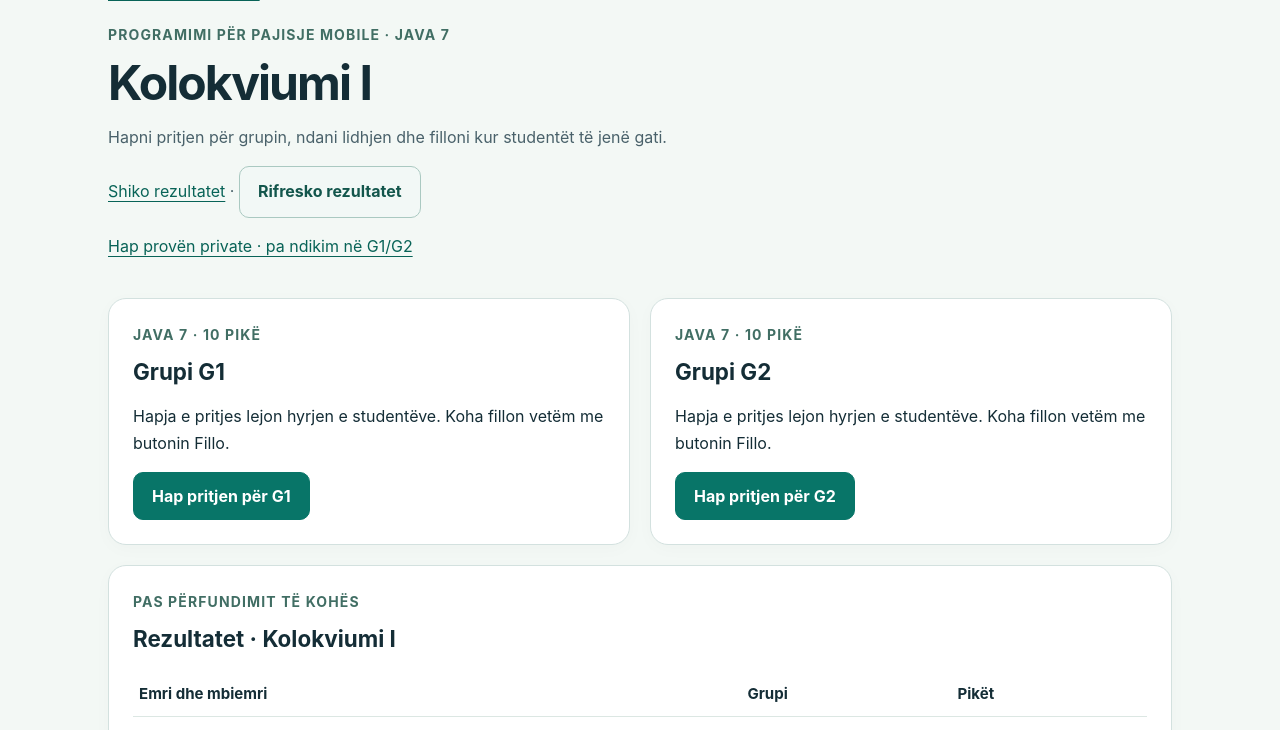
Scenario: keeps published points visible while refresh fails, then clears the error on recovery
Click the button "Rifresko rezultatet" at (330, 192), box [239,166,421,218]
(page scrolled)
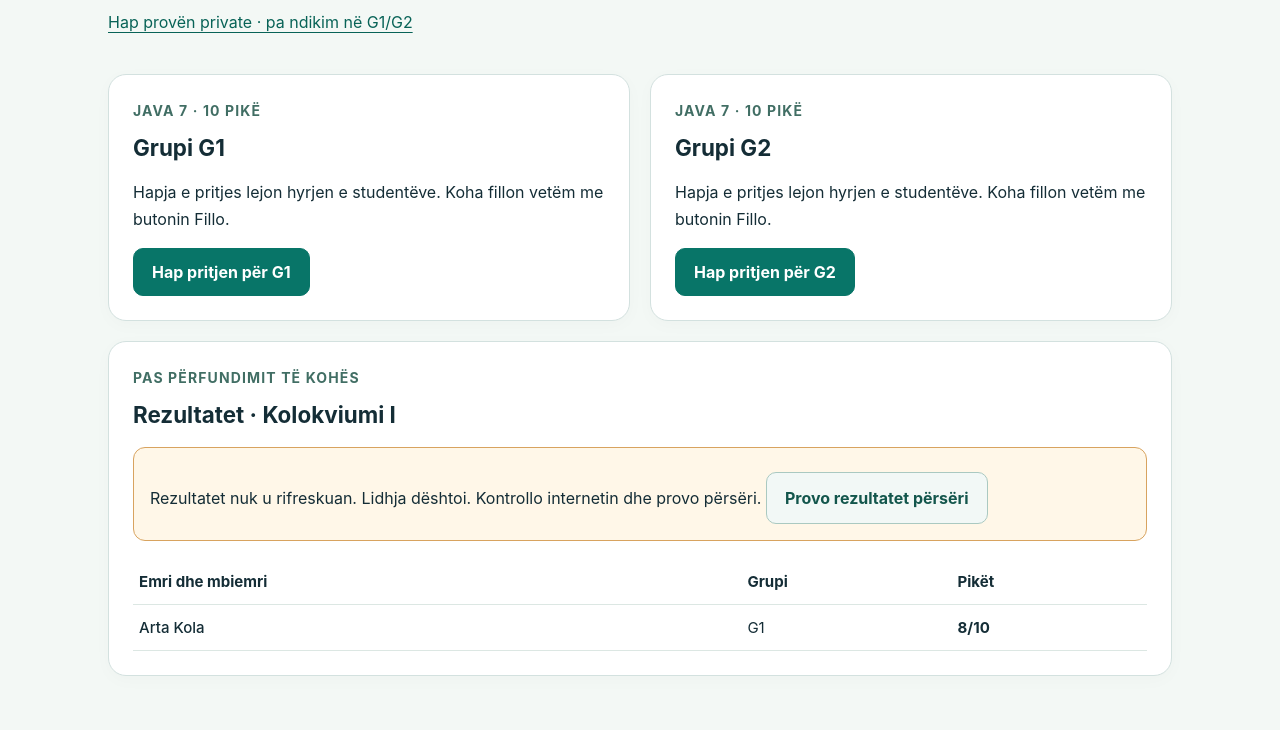
Expected: the text "8/10" is shown, [958,618,990,637]
Expected: the button "Provo rezultatet përsëri" is shown
Click the button "Provo rezultatet përsëri" at (877, 498), box [766,472,988,524]
(page scrolled)
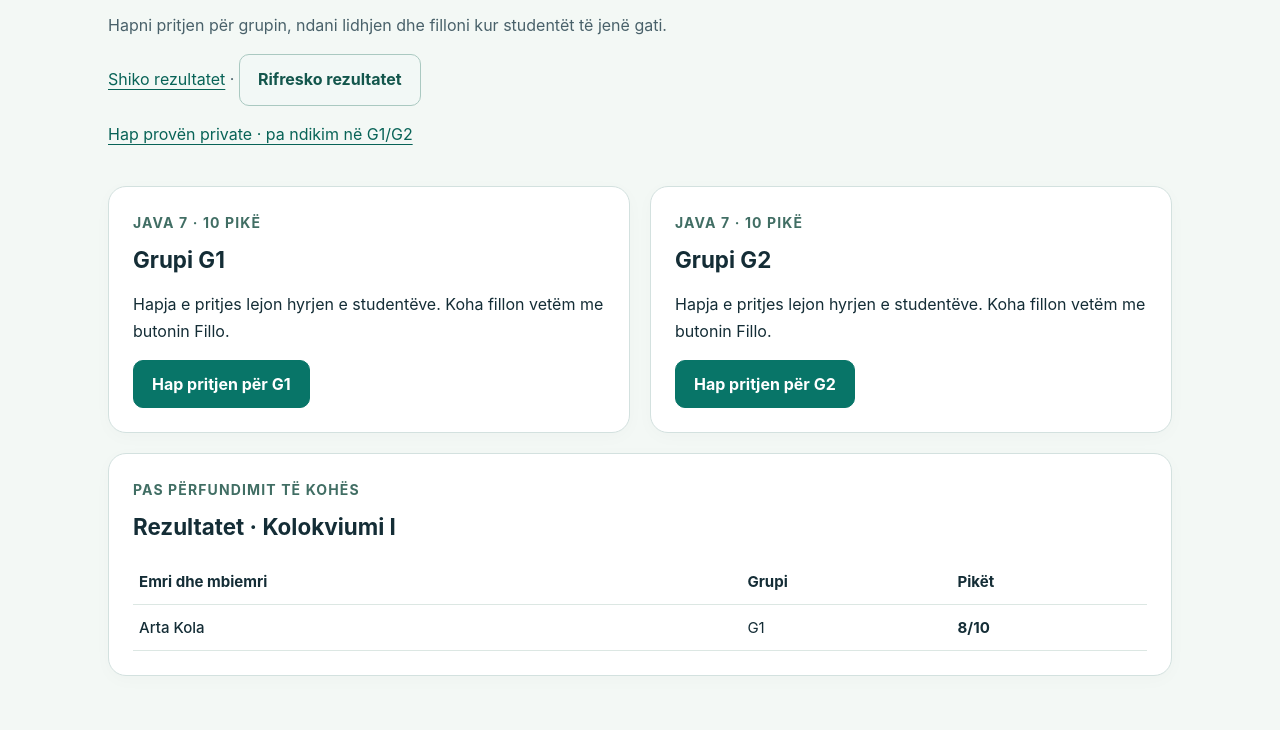
Expected: the text "8/10" is shown, [958,618,990,637]
Expected: the message is gone
